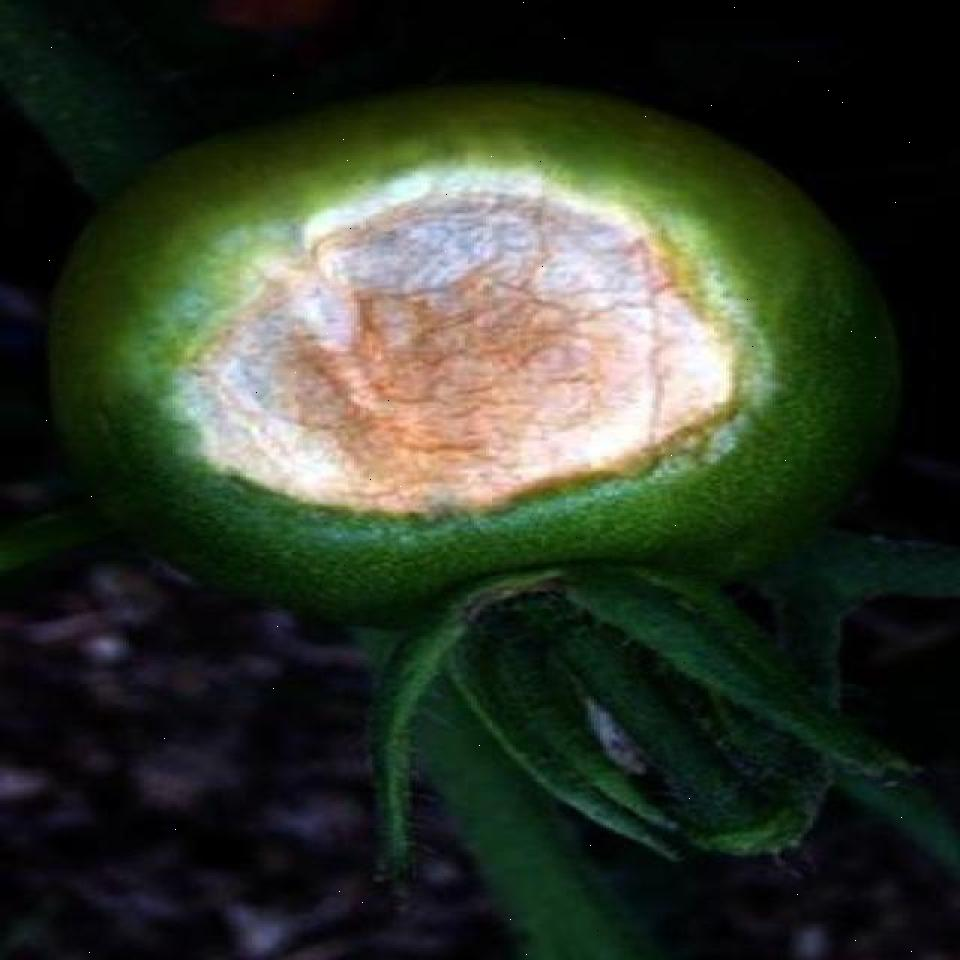Sunscald: (140, 156, 768, 561)
